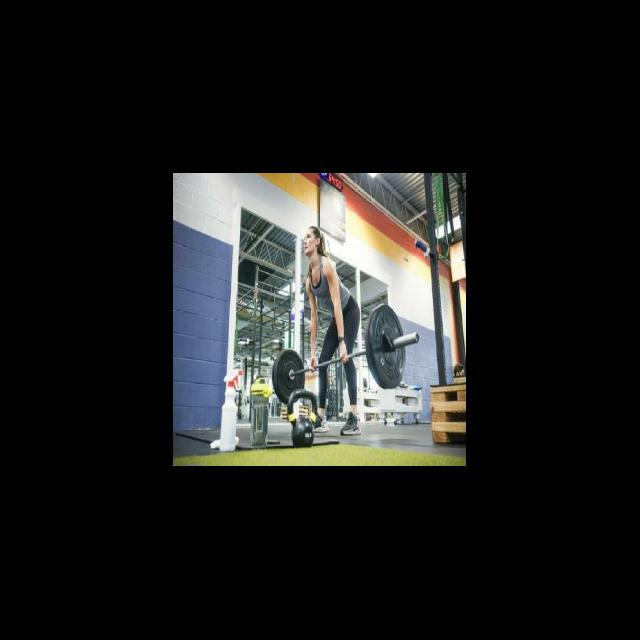barbell: (369, 303, 420, 391)
